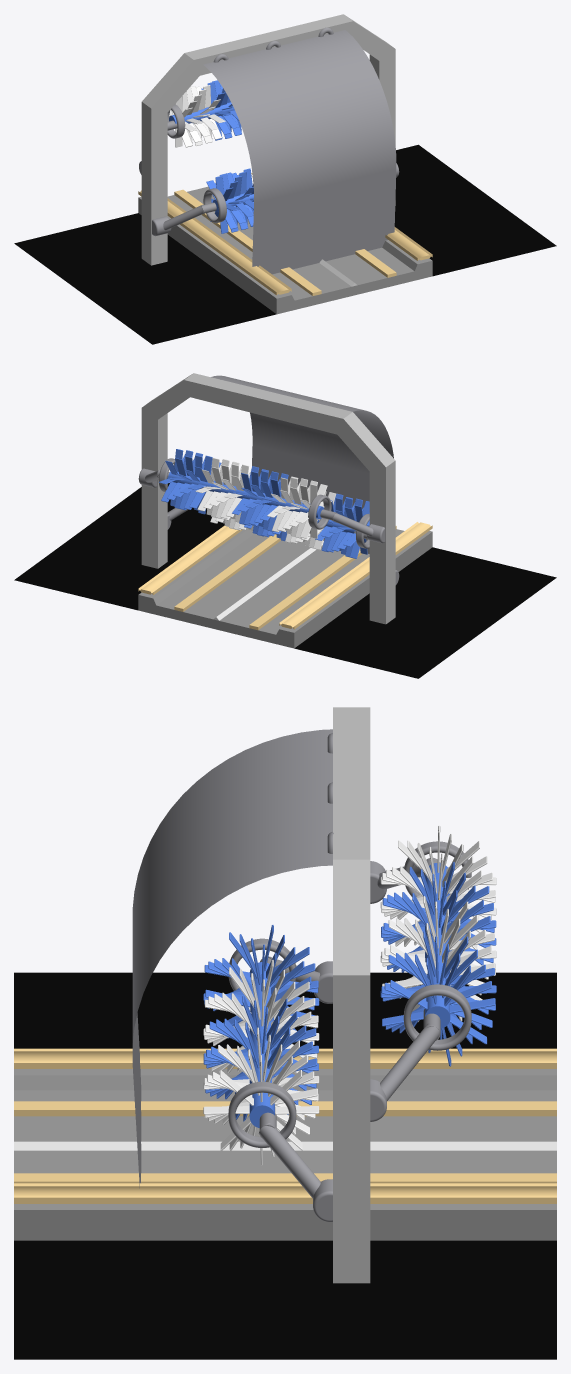
Rendered from station__brush--up2.glb.
3 renders of one model, top to bottom at view 1: azimuth 30°, elevation 25°; view 2: azimuth 150°, elevation 25°; view 3: azimuth 270°, elevation 25°, orthographic. The views are drawn at different scales.
Visible parts, largest first — view 1: lottie_front, _basefloor, Boolean, road, road__top--left, road__rail--left, road__top--right, holder__brush--ring-TL, road__rail--right, holder__brush--base-T-UP; view 2: _basefloor, Boolean, road, lottie_front, road__top--left, road__top--right, road__rail--left, road__rail--right, holder__brush--base-T-UP, road__rail--middle, holder__brush--ring-TR-UP, holder__brush--pan-R-UP; view 3: _basefloor, road, lottie_front, Boolean, road__top--right, road__top--left, road__rail--left, road__rail--right, road__rail--middle, holder__brush--ring-TL-UP, holder__brush--ring-TR, holder__brush--base-T (+3 smaller).
Part boxes in pixels (box(x1,y1,x2,y2)): lottie_front: box(203, 30, 396, 274); _basefloor: box(14, 144, 556, 344); Boolean: box(141, 14, 395, 265); road: box(138, 186, 432, 314); road__top--left: box(138, 190, 291, 295); road__rail--left: box(174, 189, 321, 295); road__top--right: box(385, 227, 432, 260); holder__brush--ring-TL: box(203, 188, 226, 223); road__rail--right: box(251, 173, 396, 277); holder__brush--base-T-UP: box(169, 102, 234, 123); _basefloor: box(14, 483, 556, 678); Boolean: box(141, 373, 395, 624); road: box(138, 528, 432, 648); lottie_front: box(211, 375, 393, 553); road__top--left: box(279, 522, 432, 629); road__top--right: box(138, 525, 242, 594); road__rail--left: box(249, 526, 396, 630); road__rail--right: box(174, 534, 280, 611); holder__brush--base-T-UP: box(168, 471, 324, 519); road__rail--middle: box(213, 541, 323, 620); holder__brush--ring-TR-UP: box(308, 494, 331, 529); holder__brush--pan-R-UP: box(330, 512, 373, 536); _basefloor: box(14, 972, 556, 1359); road: box(14, 1069, 556, 1240); lottie_front: box(132, 729, 332, 1188); Boolean: box(333, 707, 370, 1283); road__top--right: box(14, 1183, 556, 1203); road__top--left: box(14, 1048, 556, 1068); road__rail--left: box(14, 1101, 556, 1116); road__rail--right: box(14, 1173, 556, 1183); road__rail--middle: box(14, 1141, 556, 1150); holder__brush--ring-TL-UP: box(403, 984, 471, 1050); holder__brush--ring-TR: box(228, 1081, 296, 1147); holder__brush--base-T: box(249, 962, 274, 1127).
Bounding box in the file's own units: 10.8 × 5.07 × 6.4.
